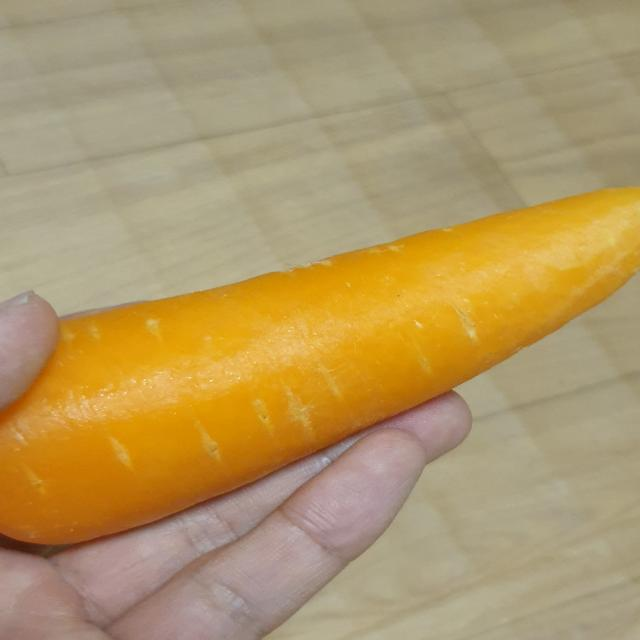Carrot: (0, 179, 640, 556)
